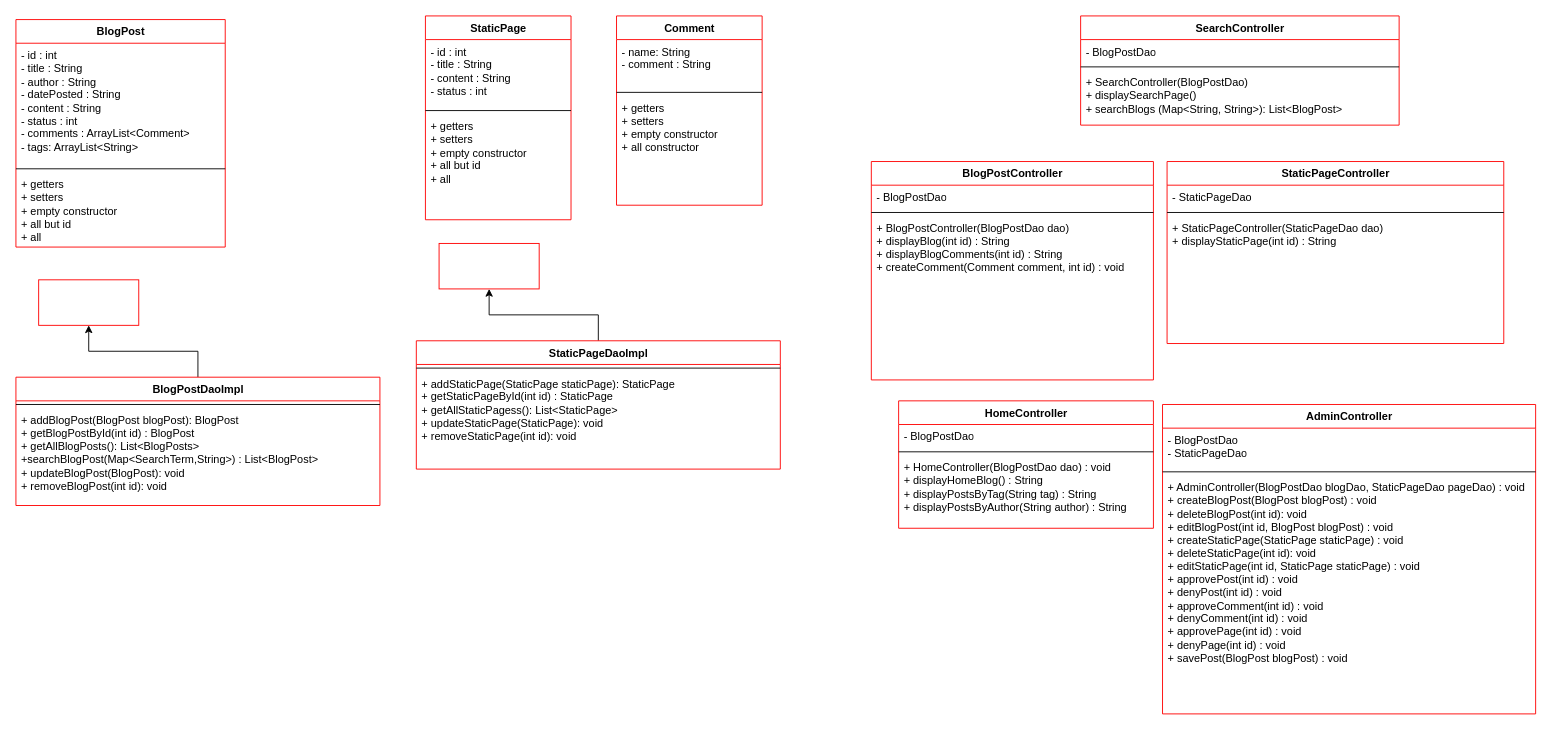
Image size: 1552x733. Some labels were removed from this diagram. The centre of each missing label's shape, as x and y in pixels:
"«interface» BlogPostDao" goes at point (88, 302).
"«interface» StaticPageDao" goes at point (488, 266).
